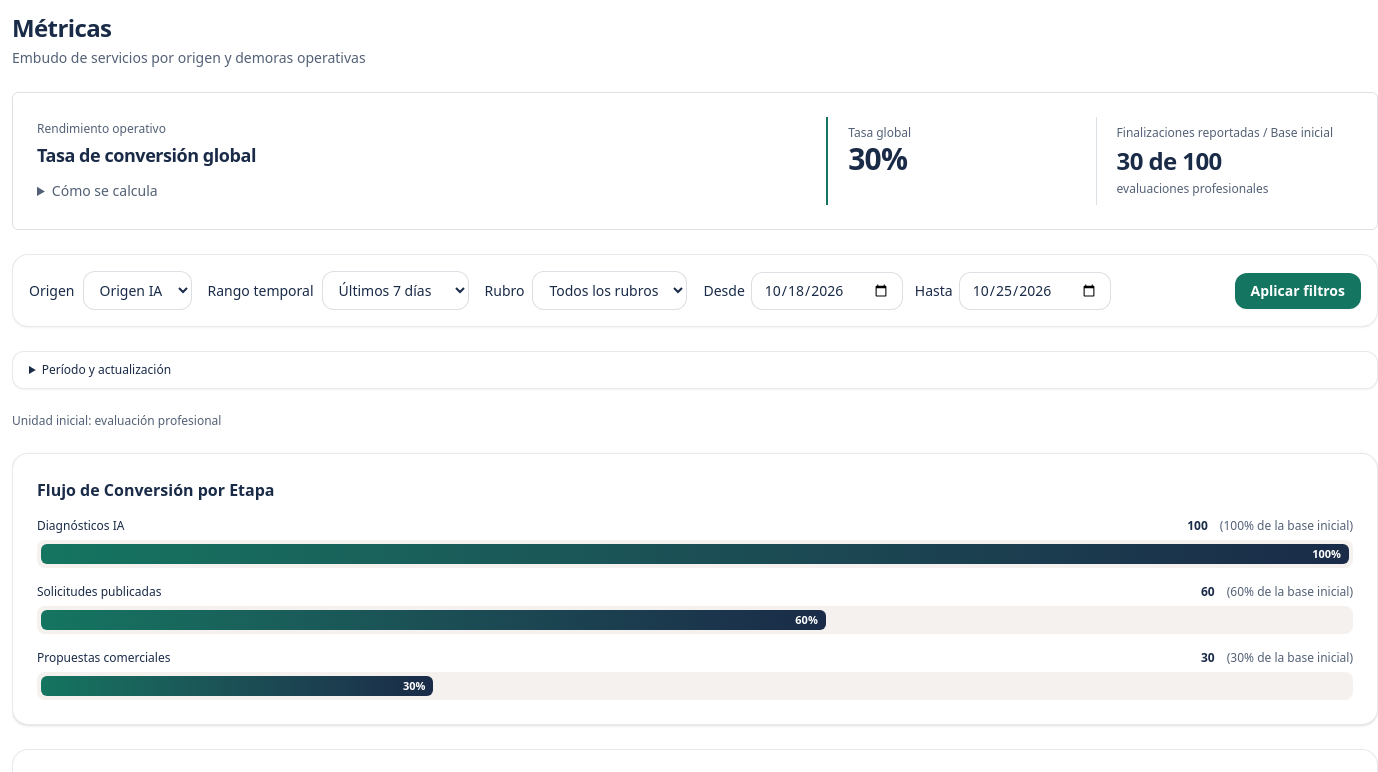
Test: CRM funnel source selection › switches to the manual cohort without showing AI evaluations or mixing global denominators
Select "Manual" in the dropdown labelled "Origen": [137, 290] box top-left (82, 271), bottom-right (192, 310)
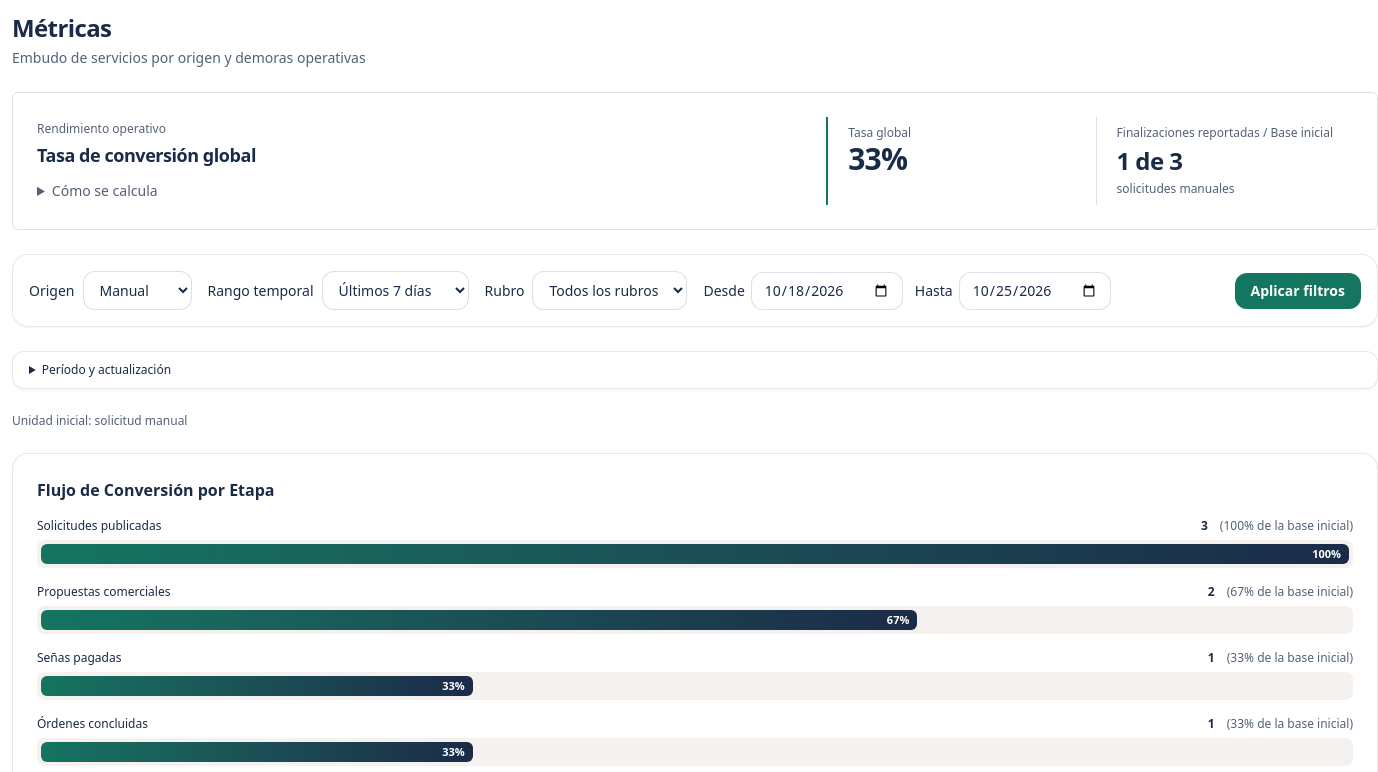
Now the element named "Resumen de conversión global" shows "1 de 3", box top-left (12, 92), bottom-right (1377, 230)
Now the text with test id "funnel-initial-unit" shows "solicitud manual", box top-left (94, 412), bottom-right (187, 429)
